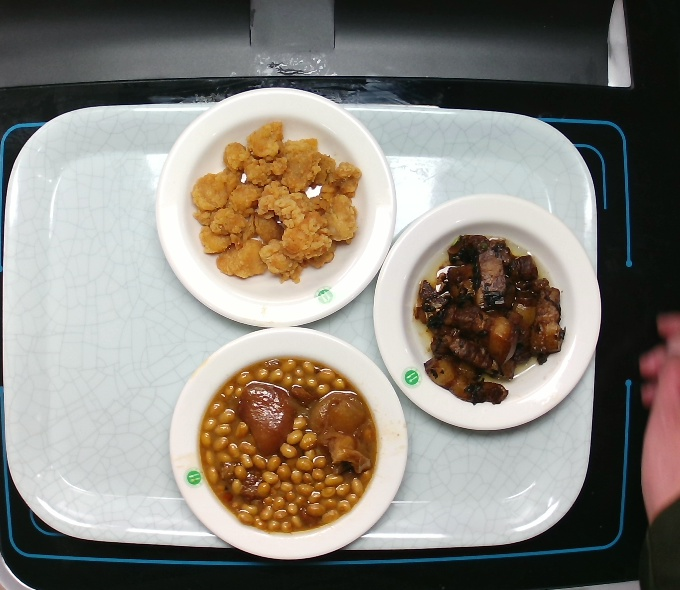wcq-GanCaiRou: (411, 231, 568, 406)
wcq-HuangDouZhuJiao: (197, 354, 379, 531)
wcq-JiMiHua: (190, 118, 361, 284)
